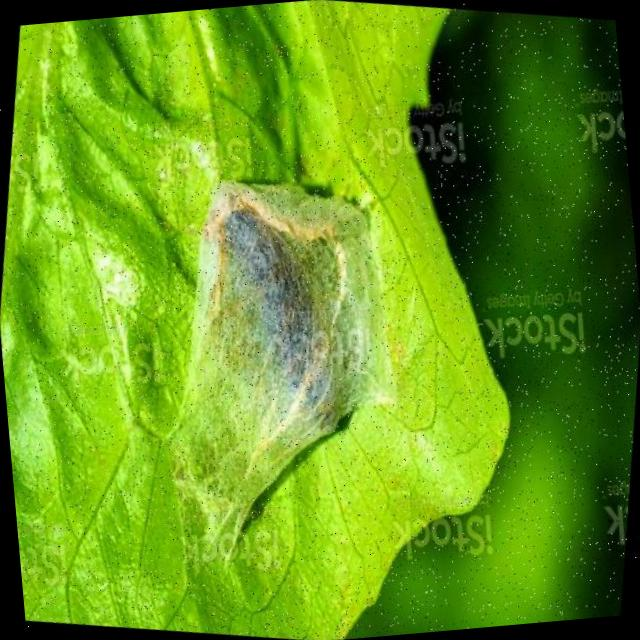Bacterial: (73, 114, 476, 585)
